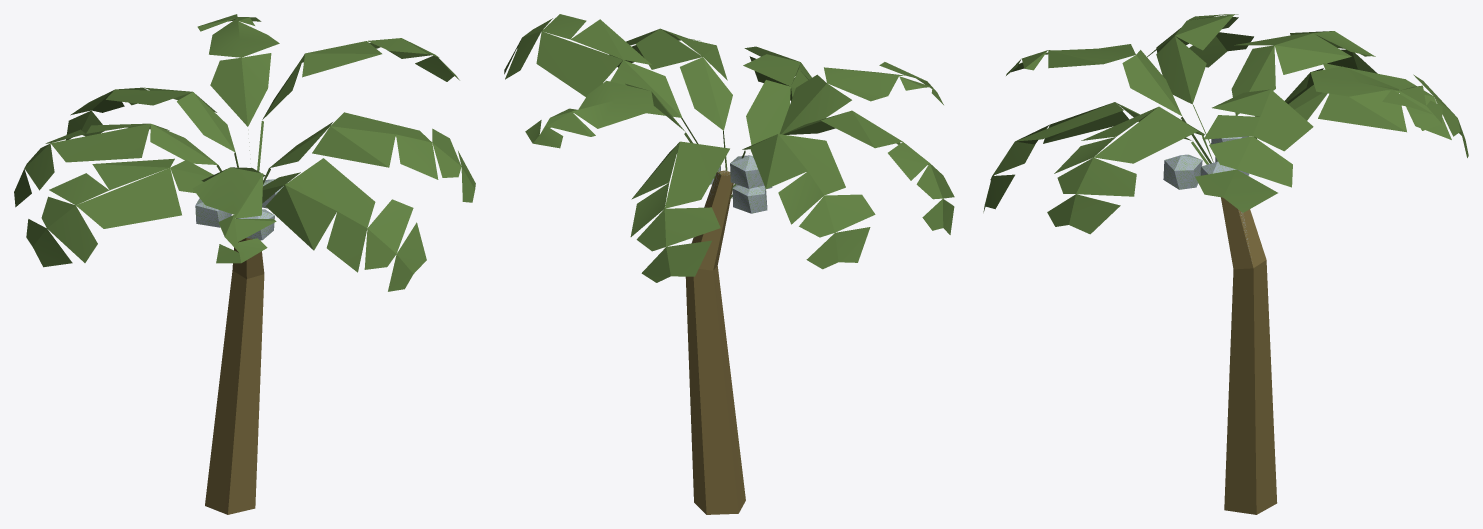
Rendered from Tree_Palm_Coconuts_02.fbx.
The picture shows the model from 3 angles, left to right: view 1: azimuth 30°, elevation 25°; view 2: azimuth 150°, elevation 25°; view 3: azimuth 270°, elevation 25°; orthographic projection. The views are drawn at different scales.
Parts seen in each view (by area): view 1: Model; view 2: Model; view 3: Model.
Boxes of the visible parts, <box> form: Model: <box>14,14,475,514</box>; Model: <box>504,14,954,514</box>; Model: <box>983,14,1468,514</box>.
Size of the model in its own units: 564 by 549 by 518.
